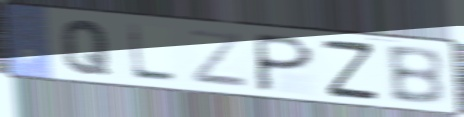B: (382, 45, 448, 107)
L: (125, 21, 180, 85)
P: (252, 31, 318, 95)
Q: (60, 18, 113, 78)
Z: (186, 27, 252, 90), (319, 38, 382, 101)
